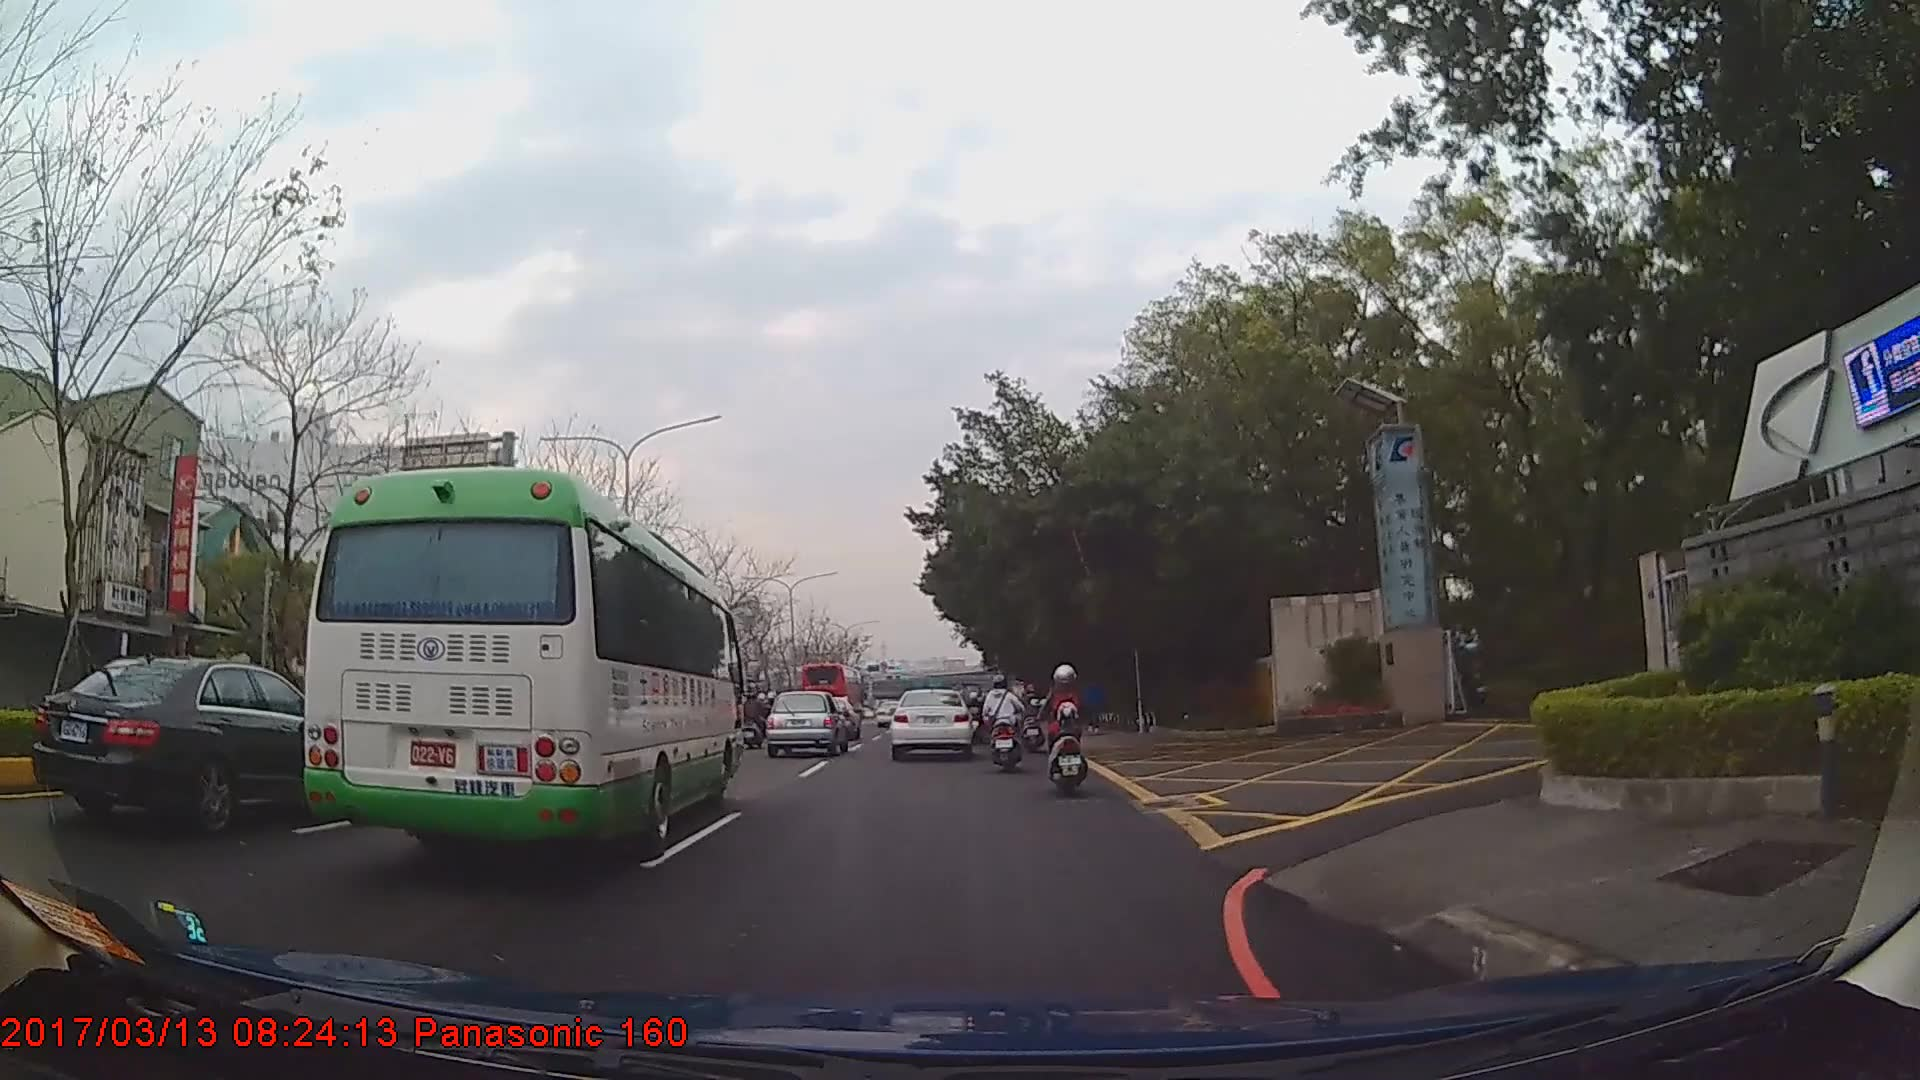pedestrian: (1082, 677, 1105, 736)
rider: (1044, 665, 1088, 802), (981, 676, 1025, 773), (1020, 680, 1045, 751), (743, 690, 771, 742)
vehicle: (294, 461, 742, 857), (30, 652, 372, 832), (888, 684, 974, 758), (762, 687, 849, 755), (798, 659, 864, 724)
